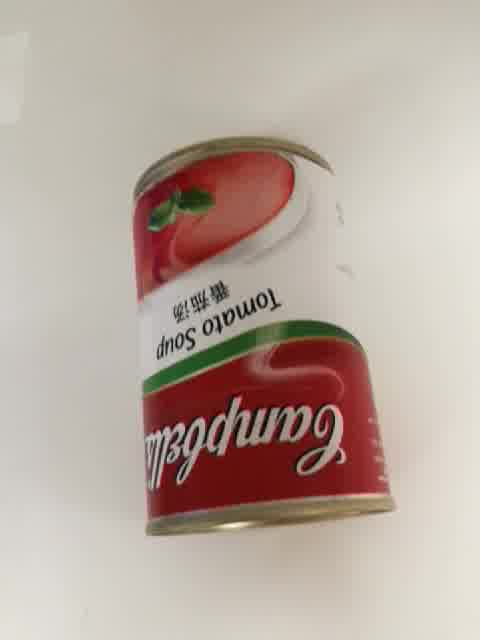tomatosoup: (127, 132, 401, 541)
